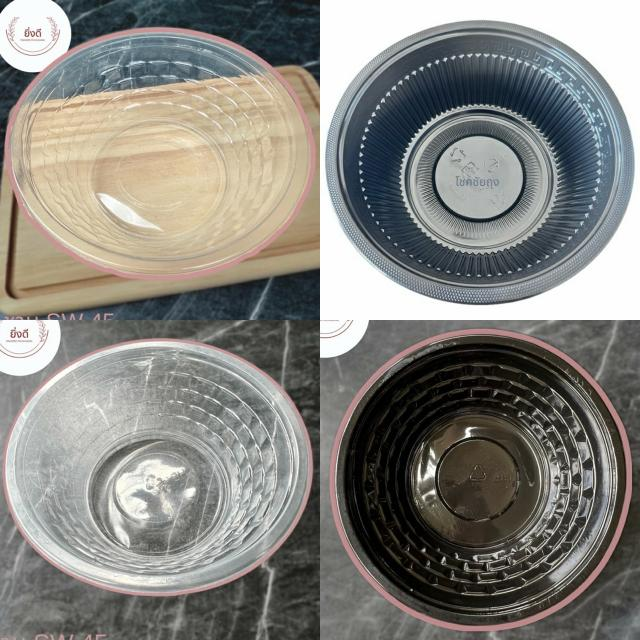Single-Use-Plastic: (331, 330, 631, 630), (326, 21, 634, 304), (4, 339, 312, 595), (6, 28, 315, 280)
